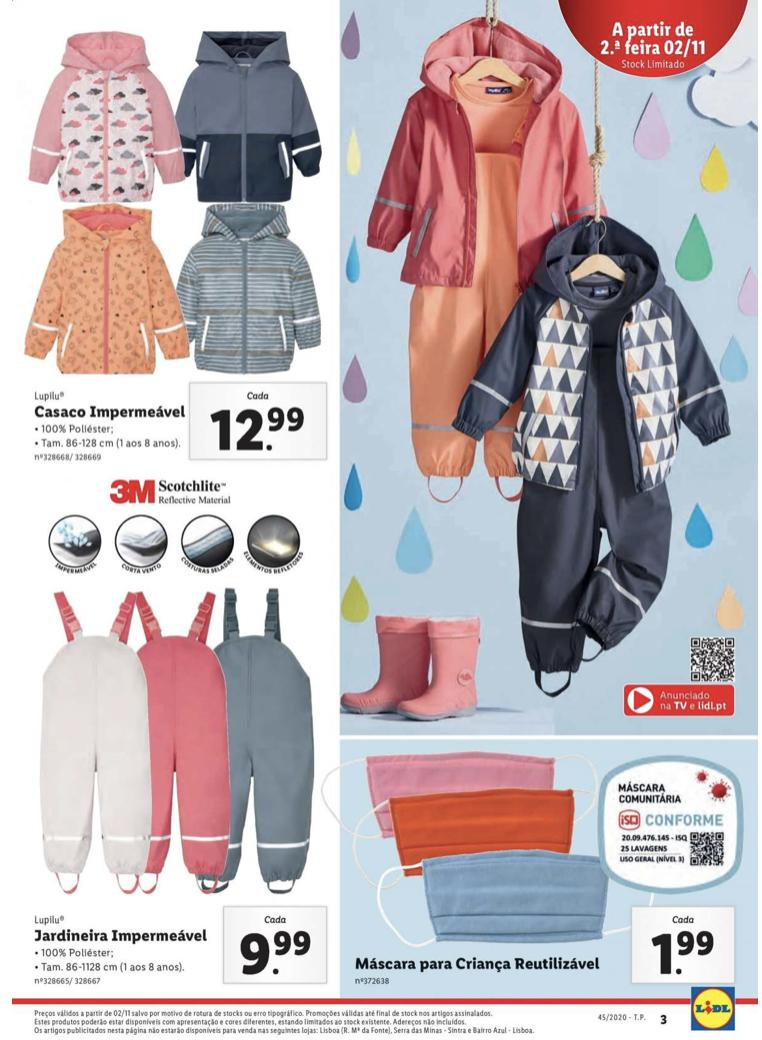name: (351, 950, 604, 978), (27, 924, 213, 948), (36, 402, 190, 424)
price: (207, 403, 307, 453), (237, 928, 314, 978), (647, 929, 719, 976)
product: (23, 485, 340, 993), (11, 12, 333, 473), (345, 741, 748, 1003)
